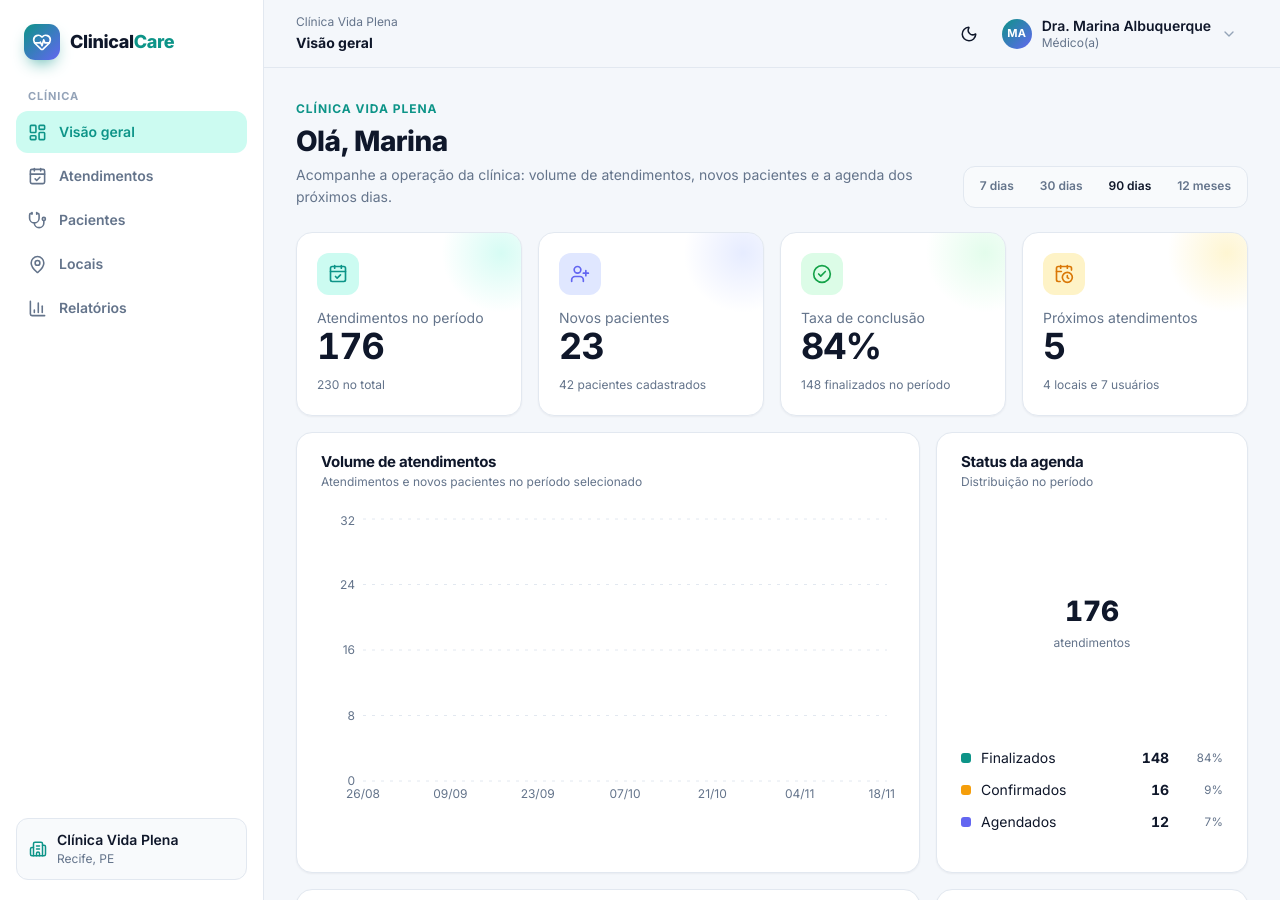
Test: cache de consultas › esvazia o cache ao encerrar a sessão
The width and height of the screenshot is (1280, 900).
Click the button "MA Dra. Marina Albuquerque Médico(a)" at (1122, 34), box [997, 12, 1248, 55]
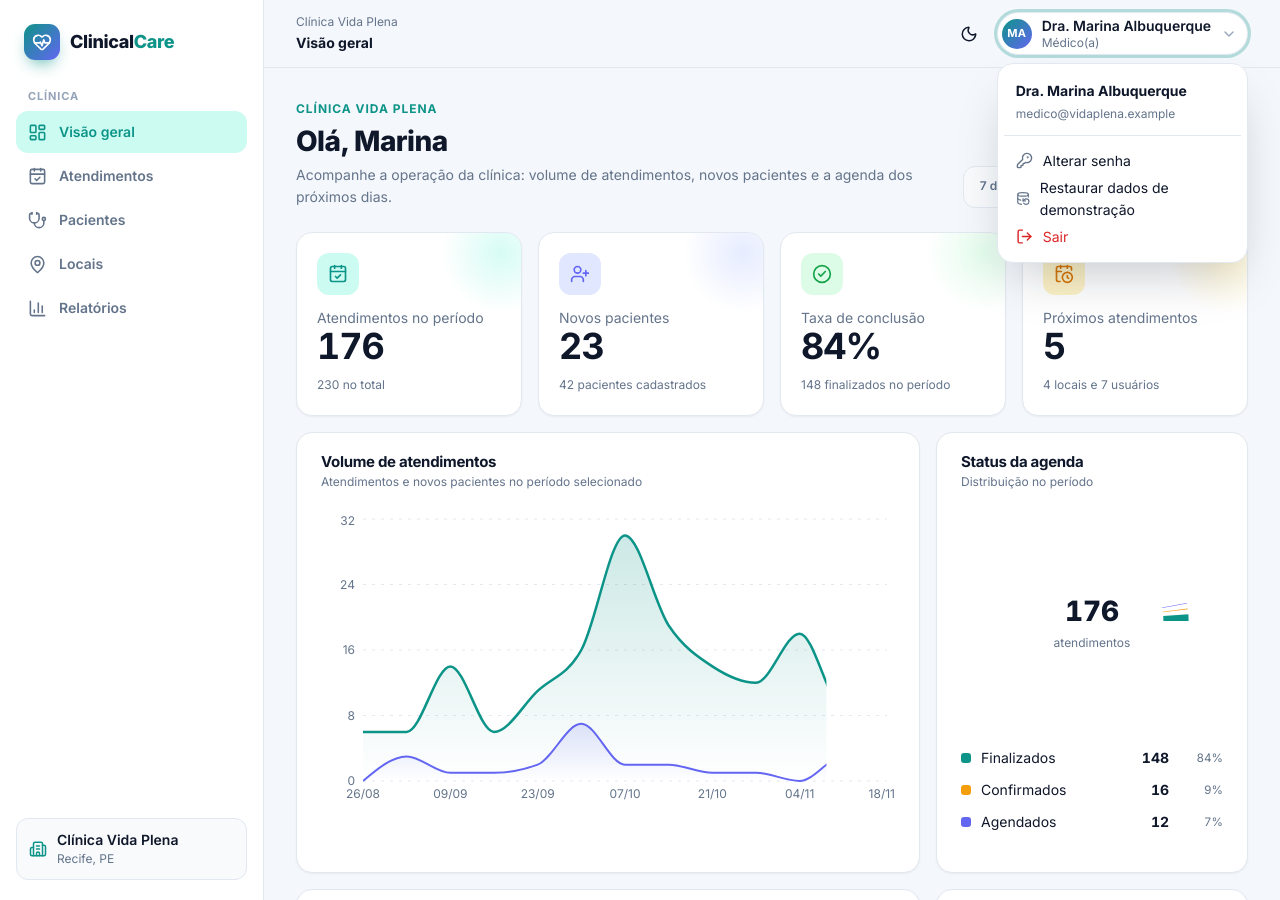
Click the menu item "Sair" at (1122, 237), box [1004, 218, 1241, 256]
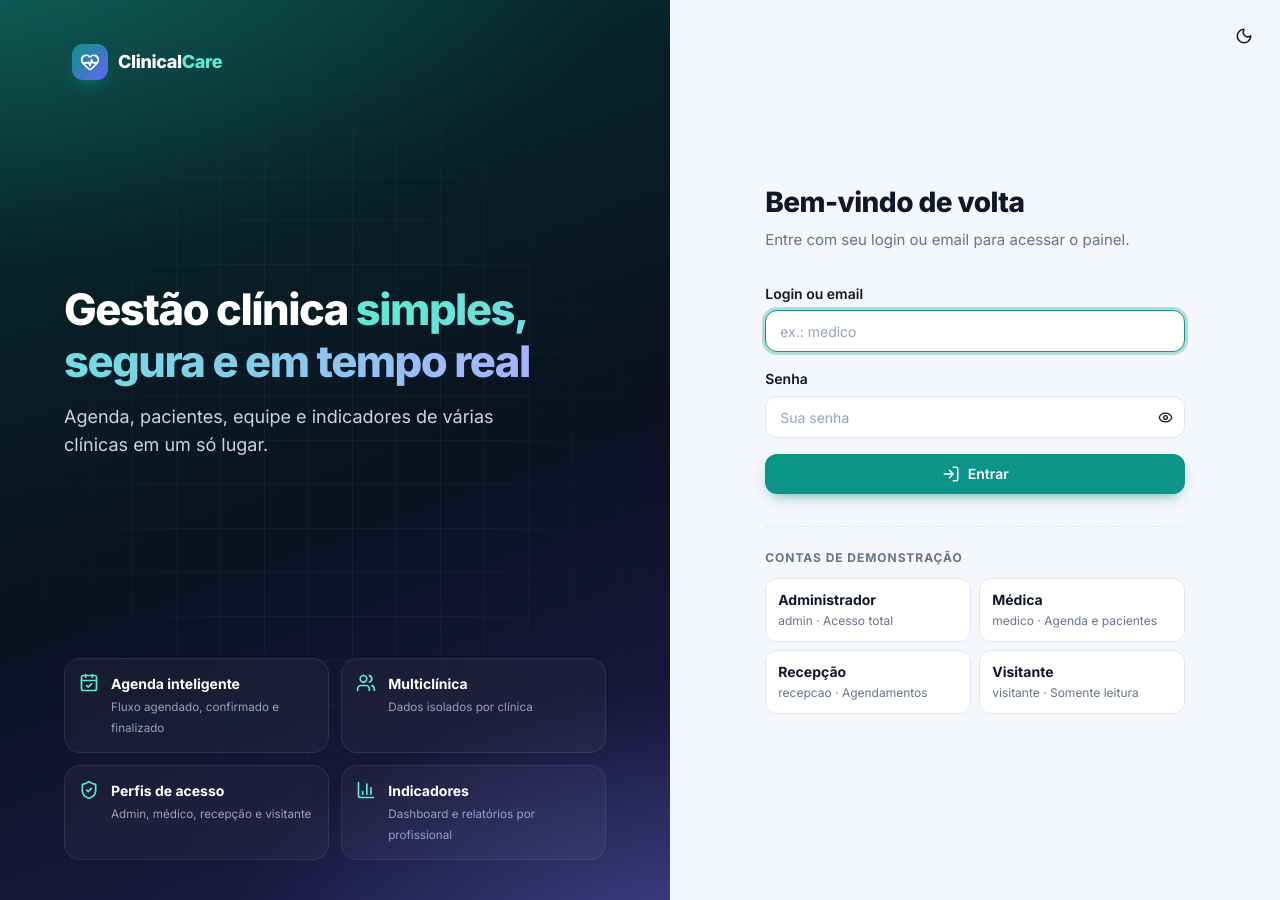
Result: the heading "Bem-vindo de volta" is shown at [765, 185, 1024, 219]
